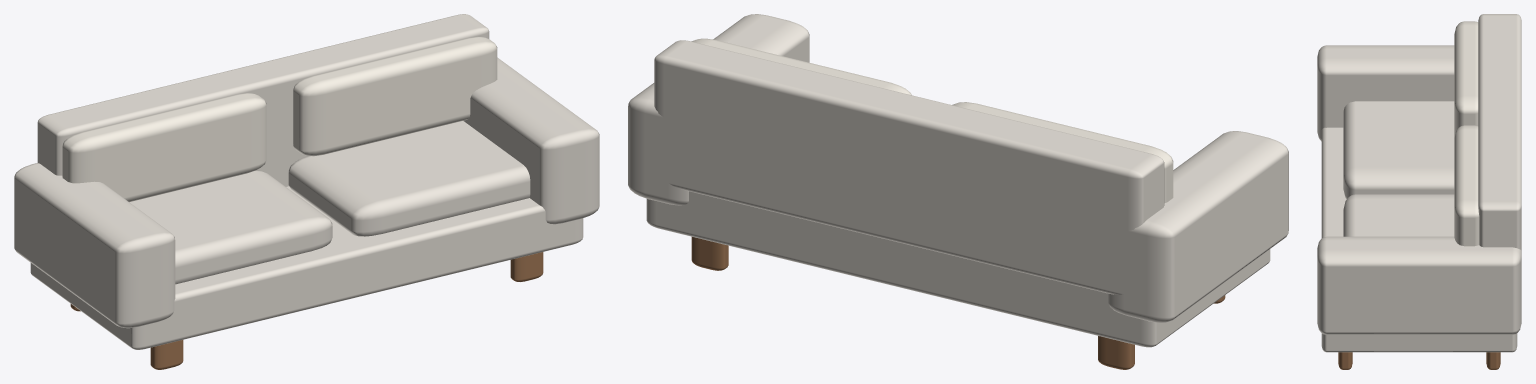
Rendered from sofa-white.glb.
3 renders of one model, left to right at view 1: azimuth 30°, elevation 25°; view 2: azimuth 150°, elevation 25°; view 3: azimuth 270°, elevation 25°, orthographic. The views are drawn at different scales.
Size of the model in its own units: 2.4 by 0.9 by 0.95.
